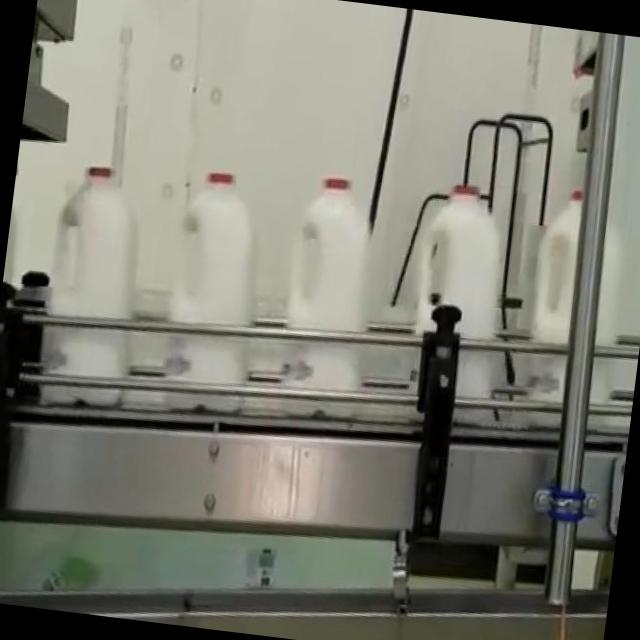milk: (258, 160, 396, 448), (386, 171, 530, 445), (20, 149, 158, 422), (144, 160, 276, 436), (511, 184, 634, 428)
